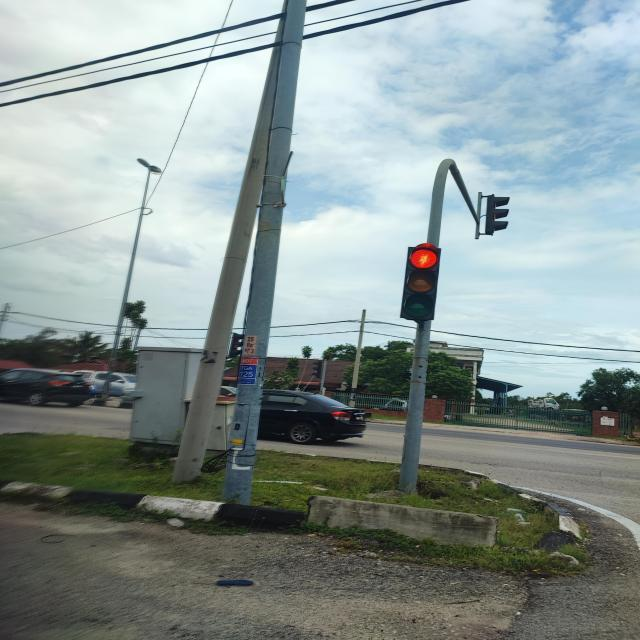red_light: (399, 243, 442, 320)
